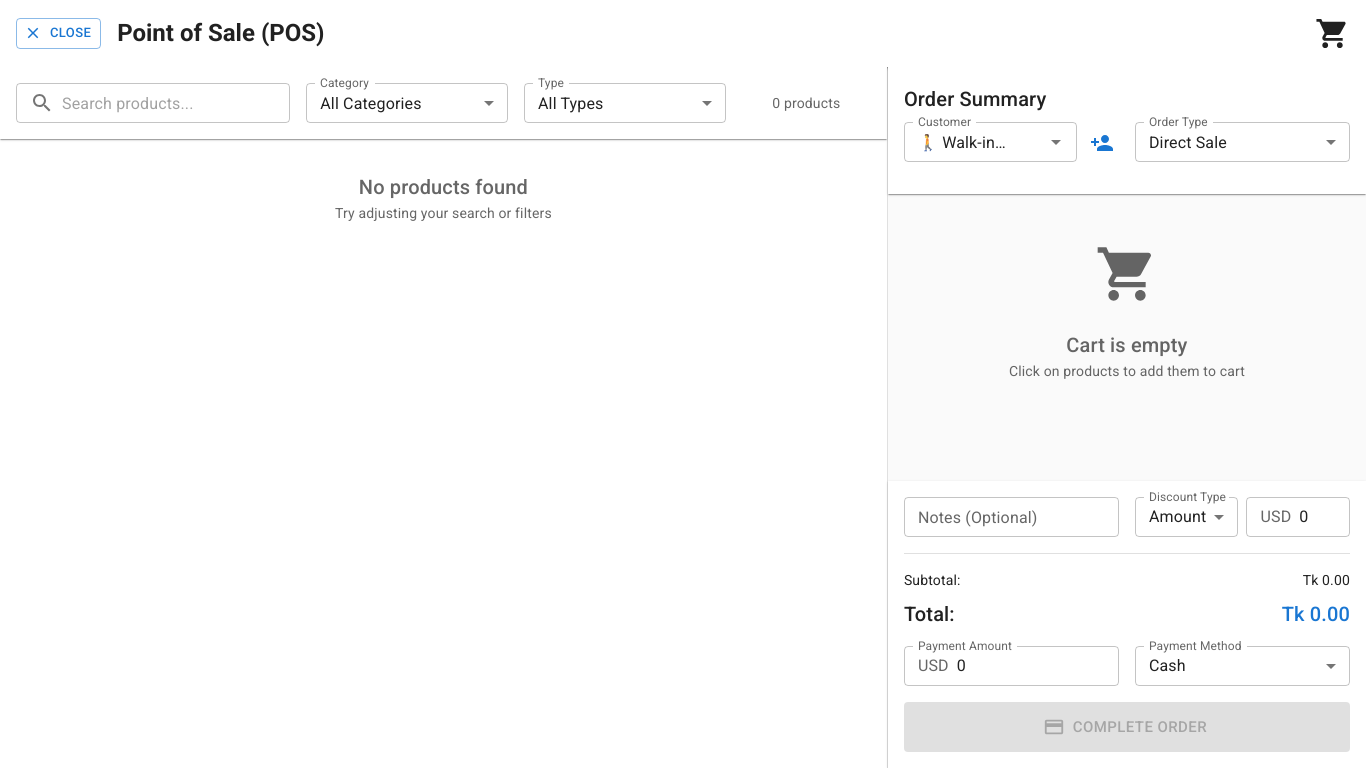
POSOrderPage customer search › offers to add the typed name when no registered customer matches
The image size is (1366, 768).
Replace the text in the dropdown labelled "Customer" with "Nobody" at (961, 142), box [910,128,1012,156]
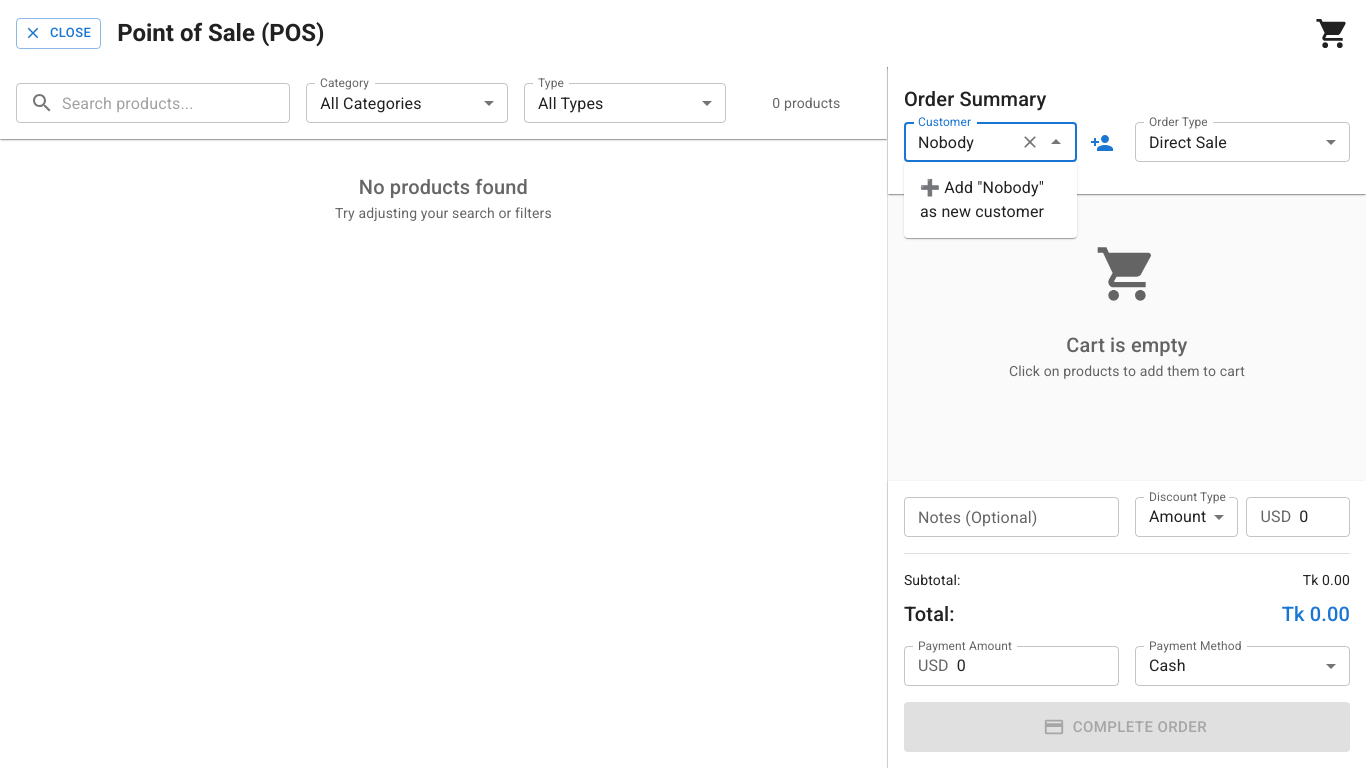
Now the option "➕ Add \"Nobody\" as new customer" is shown, box [920,178,1044,221]
